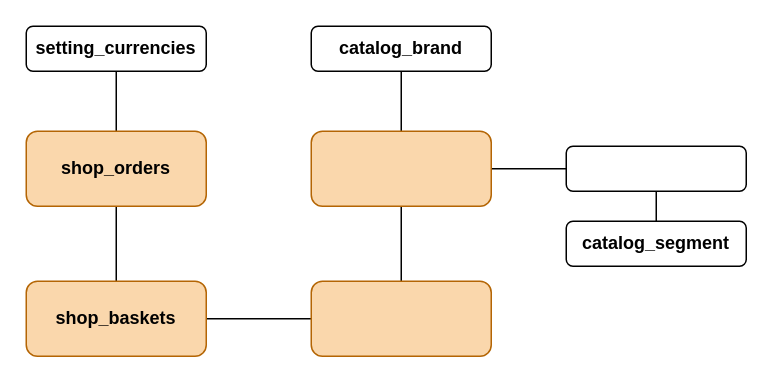
Image size: 773x383. Some labels were removed from this diagram. Here are the shapes that lost their labels. From the top down, the centre of each, then its label:
At point (400, 168): "catalog_products".
At point (655, 168): "catalog_category".
At point (400, 318): "shop_basket_items".
